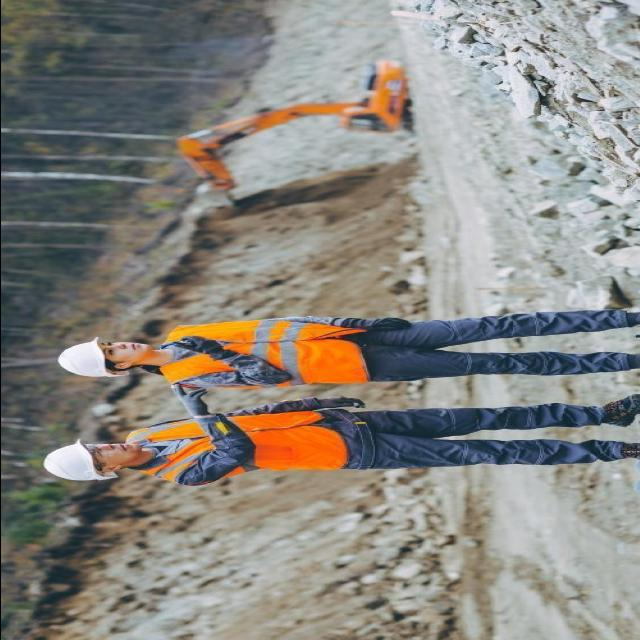helmet: (22, 436, 104, 488), (54, 334, 122, 384)
jacket: (150, 310, 382, 394), (120, 406, 351, 486)
